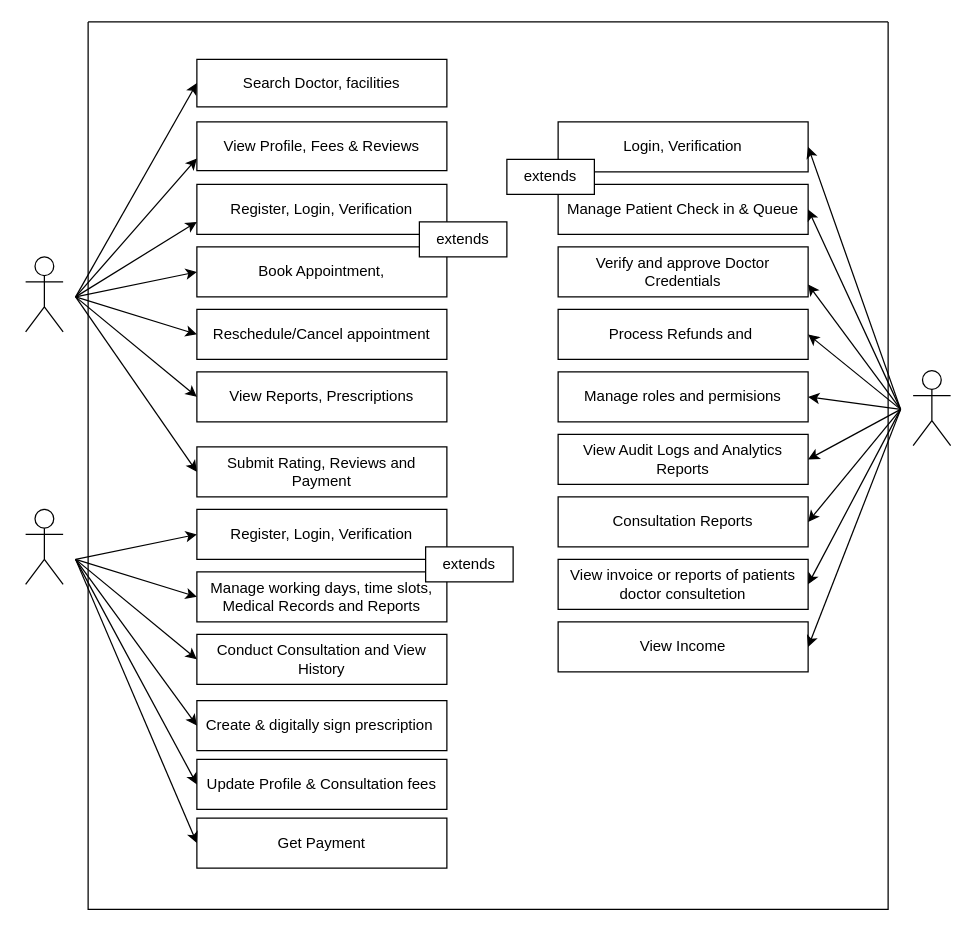
Some shapes in this 975 by 931 pixel diagram are drawn without their labels. Each missing label, with the centre of its shape:
Admin: point 931,407
Doctor: point 43,546
Patient: point 43,294
